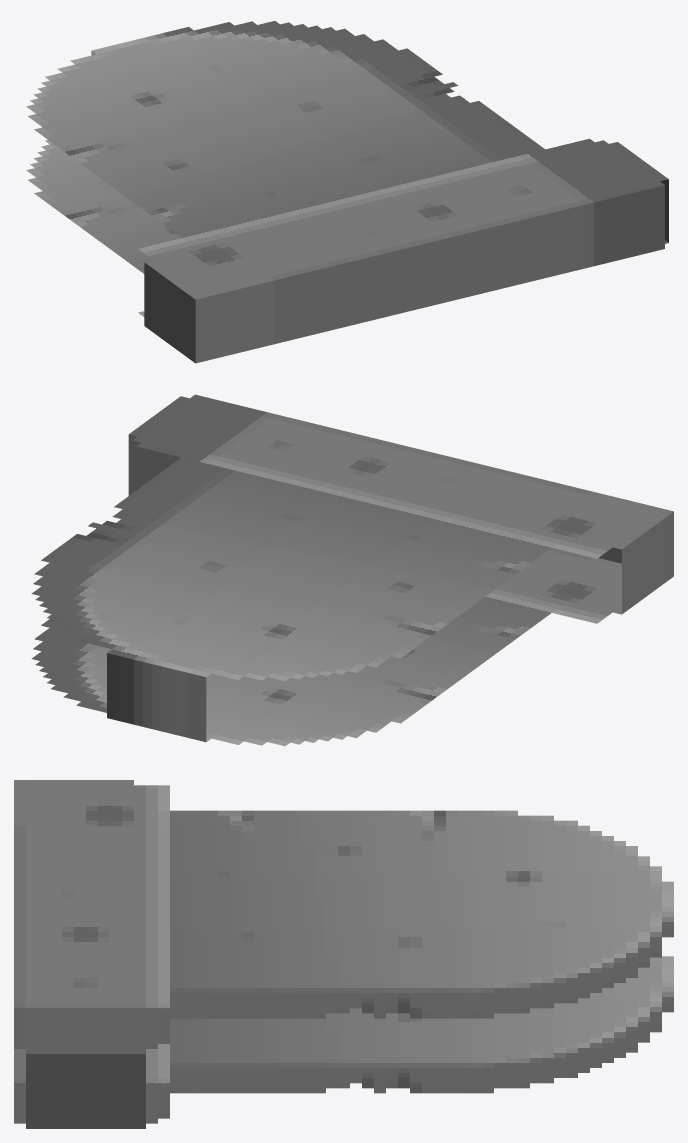
The model's file is tombstone.fbx.
3 renders of one model, top to bottom at view 1: azimuth 30°, elevation 25°; view 2: azimuth 150°, elevation 25°; view 3: azimuth 270°, elevation 25°, orthographic. The views are drawn at different scales.
Visible parts, largest first — view 1: TombStone (1); view 2: TombStone (1); view 3: TombStone (1).
Boxes of the visible parts, box(x1,y1,x2,y2) form: TombStone (1): box(26, 21, 668, 363); TombStone (1): box(31, 394, 673, 746); TombStone (1): box(14, 780, 673, 1128).
Size of the model in its own units: 98.18 by 12.51 by 100.
